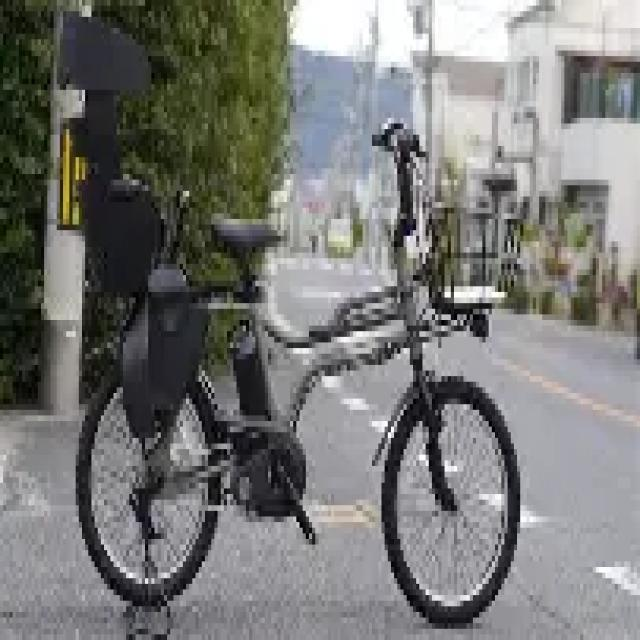basket: (422, 198, 525, 308)
battery: (230, 317, 276, 440)
childseat: (56, 5, 216, 441)
